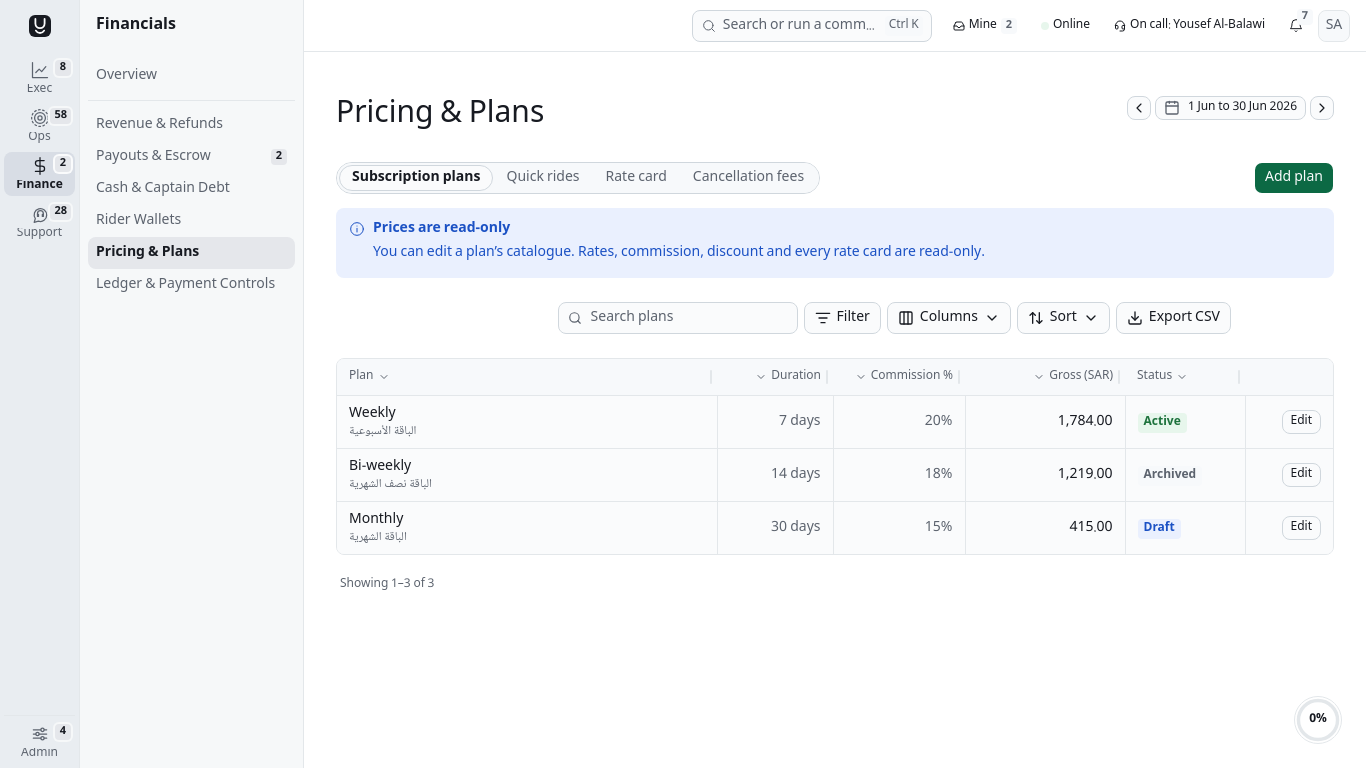
Test: AC-390 — the plan editor is outside the app layout › the rail and sub-tab column are gone in the editor and back on exit
The width and height of the screenshot is (1366, 768).
expect the text "Monthly" is shown: met, box 349,508 -> 403,532
expect the navigation bar "Exec 8 Ops 58 Finance 2 Support 28 Admin 4" is shown: met, box 0,0 -> 80,767
Click the button "Edit" in the row of "Monthly": (1301, 528) 1282,516 -> 1321,540
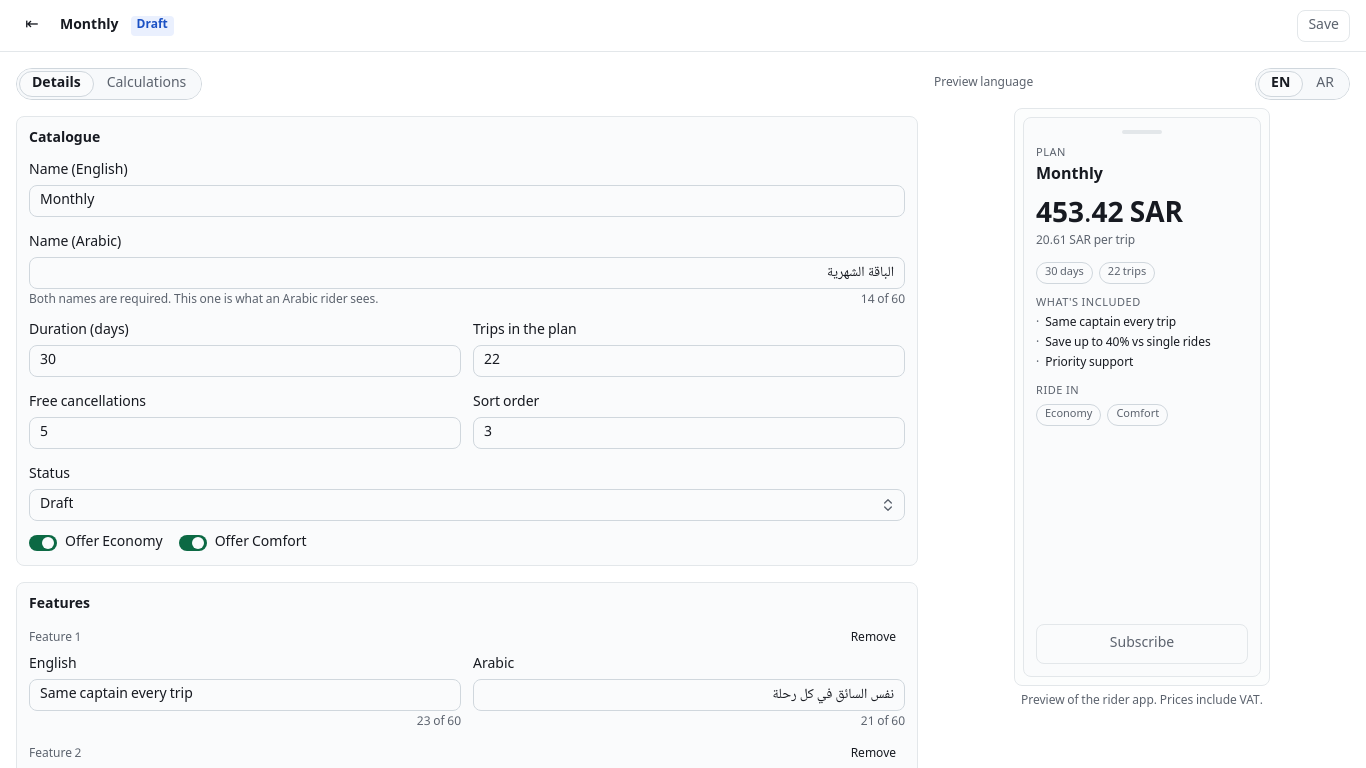
expect the heading "Catalogue" is shown: met, box 29,127 -> 100,151
expect no navigation bars are shown: met
Click the button named "Back": (32, 26) 16,10 -> 48,42
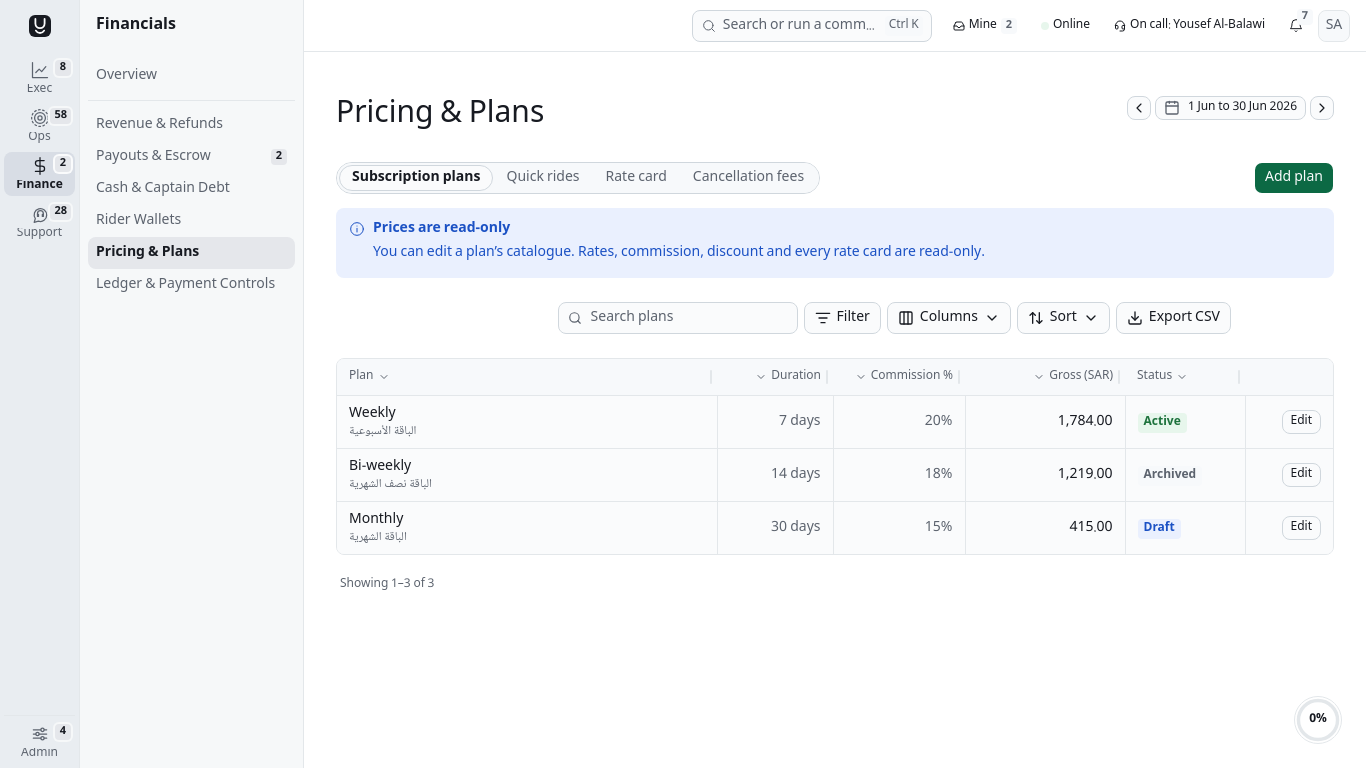
expect the text "Monthly" is shown: met, box 349,508 -> 403,532
expect the number of navigation bars is 2: met, box 0,0 -> 80,767; 80,0 -> 304,767
